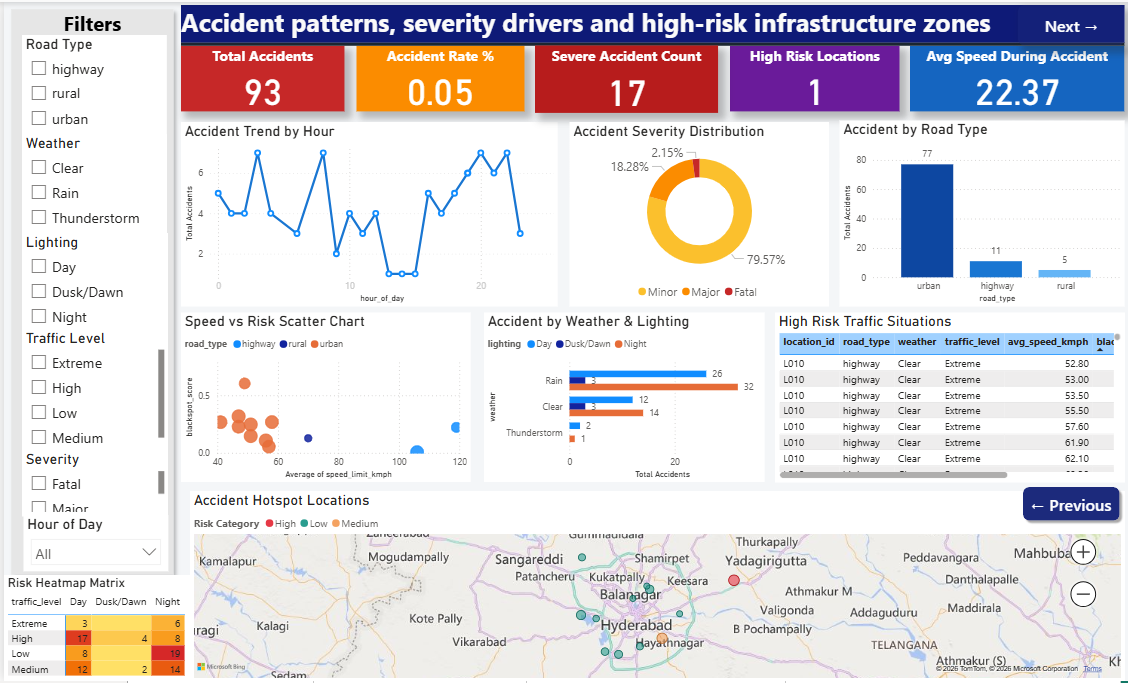

The page's visual inventory and layout, read from the dashboard file:
{"tool":"powerbi","page":{"name":"Accident & Risk Analysis","canvas":[1500,900],"ordinal":2},"visuals":[{"type":"card","title":"High Risk Locations","fields":{"Values":["traffic_cleaned_dataset.High Risk Locations"]},"box":[961.3,57.7,224.7,87.5],"z":0},{"type":"card","title":"Avg Speed During Accident","fields":{"Values":["traffic_cleaned_dataset.Avg Speed During Accident"]},"box":[1200.9,57.7,284.3,87.5],"z":1000},{"type":"card","title":"Total Accidents","fields":{"Values":["traffic_cleaned_dataset.Total Accidents"]},"box":[234.6,57.7,216.7,87.5],"z":2000},{"type":"card","title":"Accident Rate %","fields":{"Values":["traffic_cleaned_dataset.Accident Rate %"]},"box":[466.2,57.7,222.7,87.5],"z":3000},{"type":"lineChart","title":"Accident Trend by Hour","fields":{"Category":["traffic_cleaned_dataset.hour_of_day"],"Y":["traffic_cleaned_dataset.Total Accidents"]},"box":[234.6,159.1,499.1,244.6],"z":4000},{"type":"clusteredBarChart","title":"Accident by Weather & Lighting","fields":{"Category":["traffic_cleaned_dataset.weather"],"Series":["traffic_cleaned_dataset.lighting"],"Y":["traffic_cleaned_dataset.Total Accidents"]},"box":[636.2,411.6,371.8,224.7],"z":5000},{"type":"shape","box":[0,0,234.1,768.6],"z":6000},{"type":"slicer","title":"Weather","fields":{"Values":["traffic_cleaned_dataset.weather"]},"box":[23.8,174.8,191.7,130.6],"z":7000},{"type":"slicer","title":"Road Type","fields":{"Values":["traffic_cleaned_dataset.road_type"]},"box":[23.8,44.1,191.7,134],"z":8000},{"type":"slicer","title":"Traffic Level","fields":{"Values":["traffic_cleaned_dataset.traffic_level"]},"box":[23.8,432.6,193.4,161.2],"z":9000},{"type":"slicer","title":"Hour of Day","fields":{"Values":["traffic_cleaned_dataset.hour_of_day"]},"box":[25.4,680.4,191.7,74.7],"z":10000},{"type":"shape","title":"Accident patterns, severity drivers and high-risk infrastructure zones","box":[234.6,4,1250.6,53.7],"z":11000},{"type":"slicer","title":"Lighting","fields":{"Values":["traffic_cleaned_dataset.lighting"]},"box":[23.8,305.4,193.4,130.6],"z":12000},{"type":"clusteredColumnChart","title":"Accident by Road Type","fields":{"Category":["traffic_cleaned_dataset.road_type"],"Y":["traffic_cleaned_dataset.Total Accidents"]},"box":[1107.5,157.1,377.8,246.5],"z":13000},{"type":"tableEx","title":"High Risk Traffic Situations","fields":{"Values":["traffic_cleaned_dataset.location_id","traffic_cleaned_dataset.road_type","traffic_cleaned_dataset.weather","traffic_cleaned_dataset.traffic_level","traffic_cleaned_dataset.avg_speed_kmph","traffic_cleaned_dataset.blackspot_score","traffic_cleaned_dataset.accident_occurred"]},"box":[1022,411.6,463.3,224.7],"z":14000},{"type":"card","title":"Severe Accident Count","fields":{"Values":["traffic_cleaned_dataset.Severe Accidents"]},"box":[703.8,57.7,242.6,89.5],"z":15000},{"type":"donutChart","title":"Accident Severity Distribution","fields":{"Category":["traffic_cleaned_dataset.severity"],"Y":["traffic_cleaned_dataset.Total Accidents"]},"box":[749.6,159.1,344,244.6],"z":16000},{"type":"pivotTable","title":"Risk Heatmap Matrix","fields":{"Rows":["traffic_cleaned_dataset.traffic_level"],"Columns":["traffic_cleaned_dataset.lighting"],"Values":["traffic_cleaned_dataset.Total Accidents"]},"box":[0,759.5,246.5,141.2],"z":17000},{"type":"slicer","title":"Severity","fields":{"Values":["traffic_cleaned_dataset.severity"]},"box":[23.8,593.8,193.4,86.5],"z":18000},{"type":"scatterChart","title":"Speed vs Risk Scatter Chart","fields":{"X":["traffic_cleaned_dataset.speed_limit_kmph"],"Y":["traffic_cleaned_dataset.blackspot_score"],"Size":["Sum(traffic_cleaned_dataset.violations_count)"],"Series":["traffic_cleaned_dataset.road_type"]},"box":[234.6,411.6,383.7,224.7],"z":19000},{"type":"map","title":"Accident Hotspot Locations","fields":{"Y":["traffic_cleaned_dataset.latitude"],"X":["traffic_cleaned_dataset.longitude"],"Size":["traffic_cleaned_dataset.Total Accidents"],"Series":["traffic_cleaned_dataset.Risk Category"]},"box":[246.5,648.2,1238.7,252.5],"z":20000},{"type":"actionButton","box":[1344.1,4,141.2,53.7],"z":21000},{"type":"actionButton","box":[1344.1,636.2,141.2,57.7],"z":22000}]}

Visuals, with their boxes in screenshot pixels (x1, y1, x2, y2), scaled from the page's 1500x900 canvas onto the 1128x683 screenshot:
"High Risk Locations" card: left=723, top=44, right=892, bottom=110
"Avg Speed During Accident" card: left=903, top=44, right=1117, bottom=110
"Total Accidents" card: left=176, top=44, right=339, bottom=110
"Accident Rate %" card: left=351, top=44, right=518, bottom=110
"Accident Trend by Hour" lineChart: left=176, top=121, right=552, bottom=306
"Accident by Weather & Lighting" clusteredBarChart: left=478, top=312, right=758, bottom=483
shape: left=0, top=0, right=176, bottom=583
"Weather" slicer: left=18, top=133, right=162, bottom=232
"Road Type" slicer: left=18, top=33, right=162, bottom=135
"Traffic Level" slicer: left=18, top=328, right=163, bottom=451
"Hour of Day" slicer: left=19, top=516, right=163, bottom=573
"Accident patterns, severity drivers and high-risk infrastructure zones" shape: left=176, top=3, right=1117, bottom=44
"Lighting" slicer: left=18, top=232, right=163, bottom=331
"Accident by Road Type" clusteredColumnChart: left=833, top=119, right=1117, bottom=306
"High Risk Traffic Situations" tableEx: left=769, top=312, right=1117, bottom=483
"Severe Accident Count" card: left=529, top=44, right=712, bottom=112
"Accident Severity Distribution" donutChart: left=564, top=121, right=822, bottom=306
"Risk Heatmap Matrix" pivotTable: left=0, top=576, right=185, bottom=682
"Severity" slicer: left=18, top=451, right=163, bottom=516
"Speed vs Risk Scatter Chart" scatterChart: left=176, top=312, right=465, bottom=483
"Accident Hotspot Locations" map: left=185, top=492, right=1117, bottom=682
actionButton: left=1011, top=3, right=1117, bottom=44
actionButton: left=1011, top=483, right=1117, bottom=527
